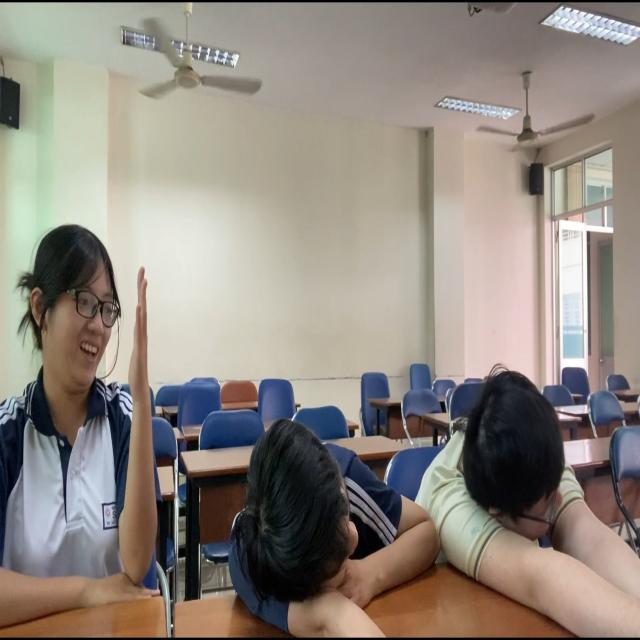raise_hand: (1, 226, 163, 640)
sleep: (422, 336, 640, 640), (214, 386, 440, 640)
